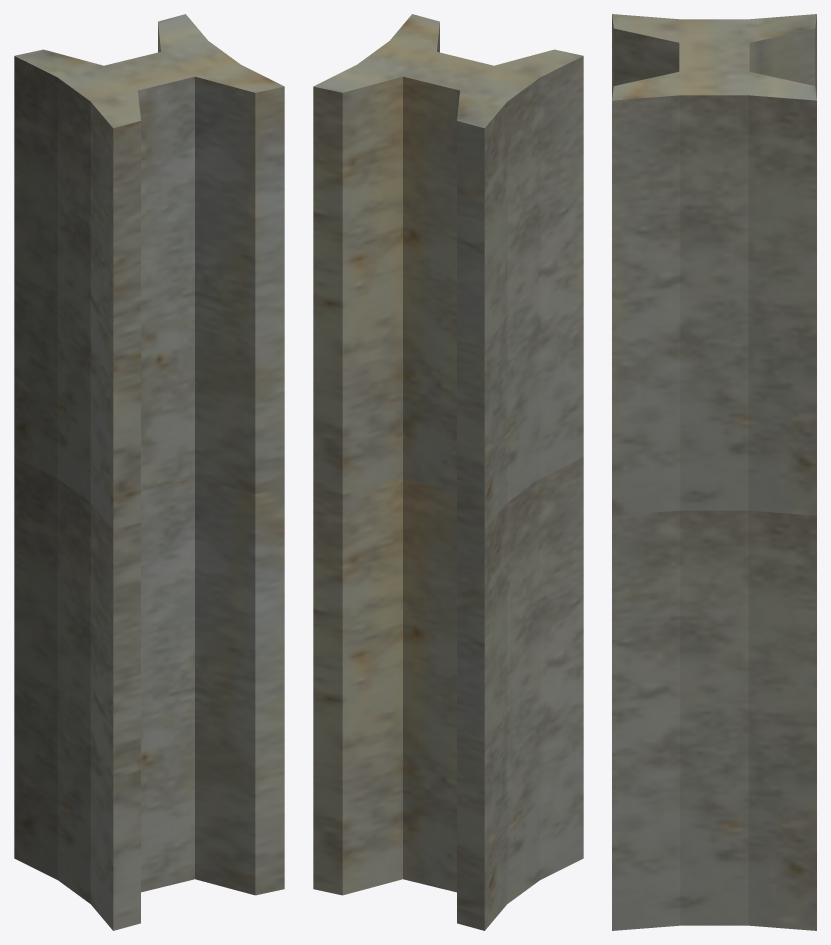
Rendered from MetalPillar.fbx.
3 views of the same model, side by side, from view 1: azimuth 30°, elevation 25°; view 2: azimuth 150°, elevation 25°; view 3: azimuth 270°, elevation 25° (orthographic). The views are drawn at different scales.
Visible parts, largest first — view 1: MetalPillar; view 2: MetalPillar; view 3: MetalPillar.
Part boxes in pixels (box(x1,y1,x2,y2)): MetalPillar: box(14, 14, 284, 930); MetalPillar: box(313, 14, 583, 930); MetalPillar: box(612, 14, 816, 930).
Size of the model in its own units: 134 by 134 by 600.
